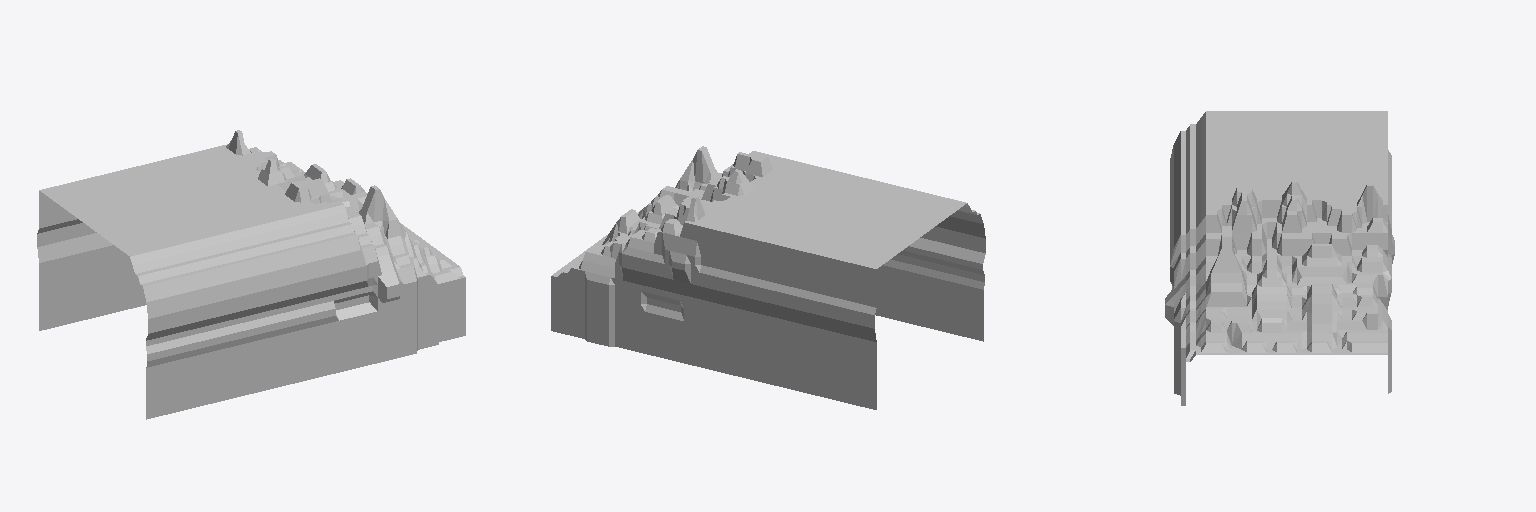
The model's file is mMountainRight1.obj.
3 renders of one model, left to right at view 1: azimuth 30°, elevation 25°; view 2: azimuth 150°, elevation 25°; view 3: azimuth 270°, elevation 25°, orthographic.
Parts seen in each view (by area): view 1: mMountainRight1; view 2: mMountainRight1; view 3: mMountainRight1.
Part boxes in pixels (bbox=[...]): mMountainRight1: bbox=[37, 130, 465, 419]; mMountainRight1: bbox=[551, 146, 985, 409]; mMountainRight1: bbox=[1165, 111, 1394, 405].
Bounding box in the file's own units: 81.11 × 40.44 × 49.63.